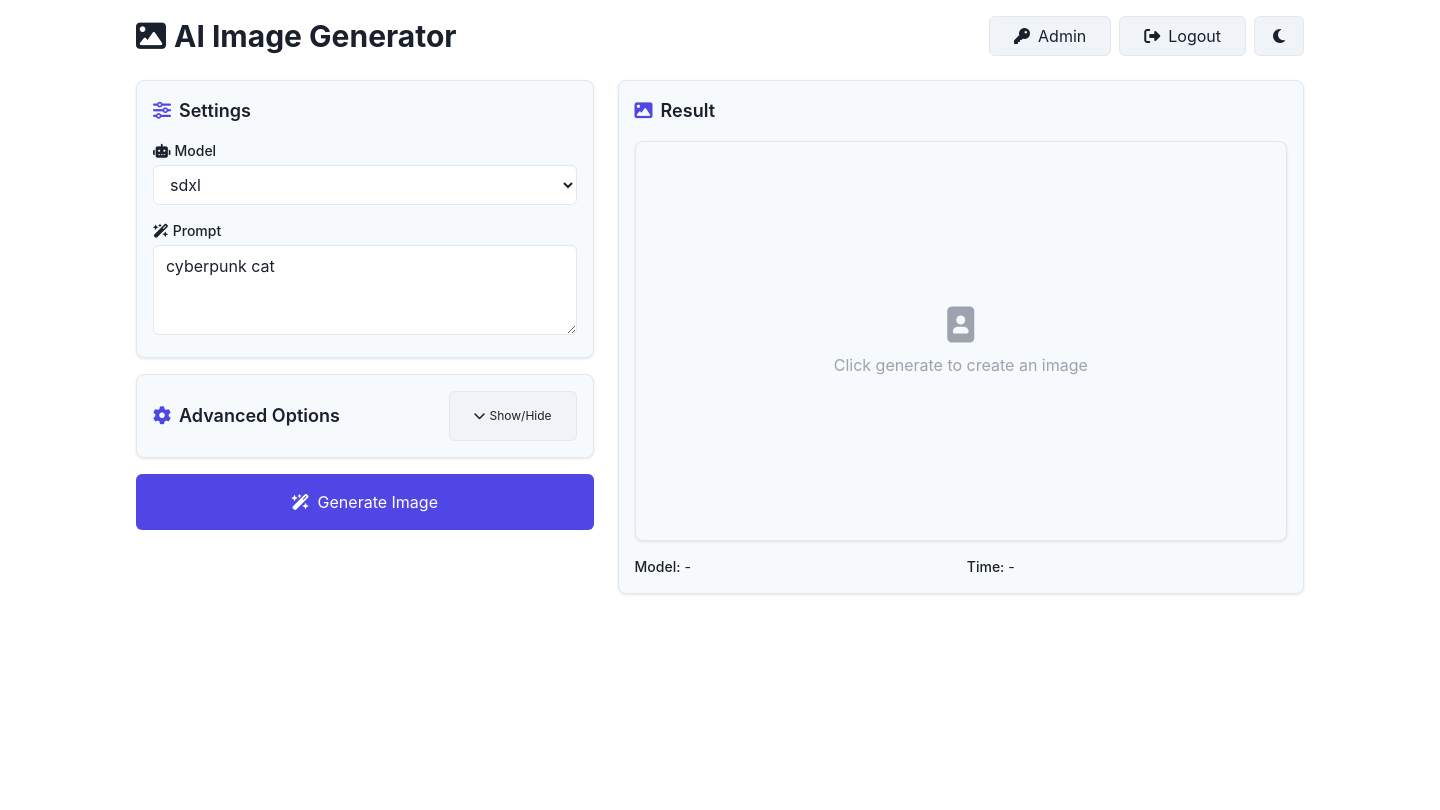
Test: the generator's DOM contract › keeps every element id the legacy page published
Check: the heading "AI Image Generator" is shown, box x1=136 y1=18 x2=456 y2=54
Check: the dropdown with id "model" is shown, box x1=153 y1=165 x2=577 y2=205
Click the button with id "toggleAdvanced": [513, 416] box x1=448 y1=391 x2=577 y2=441
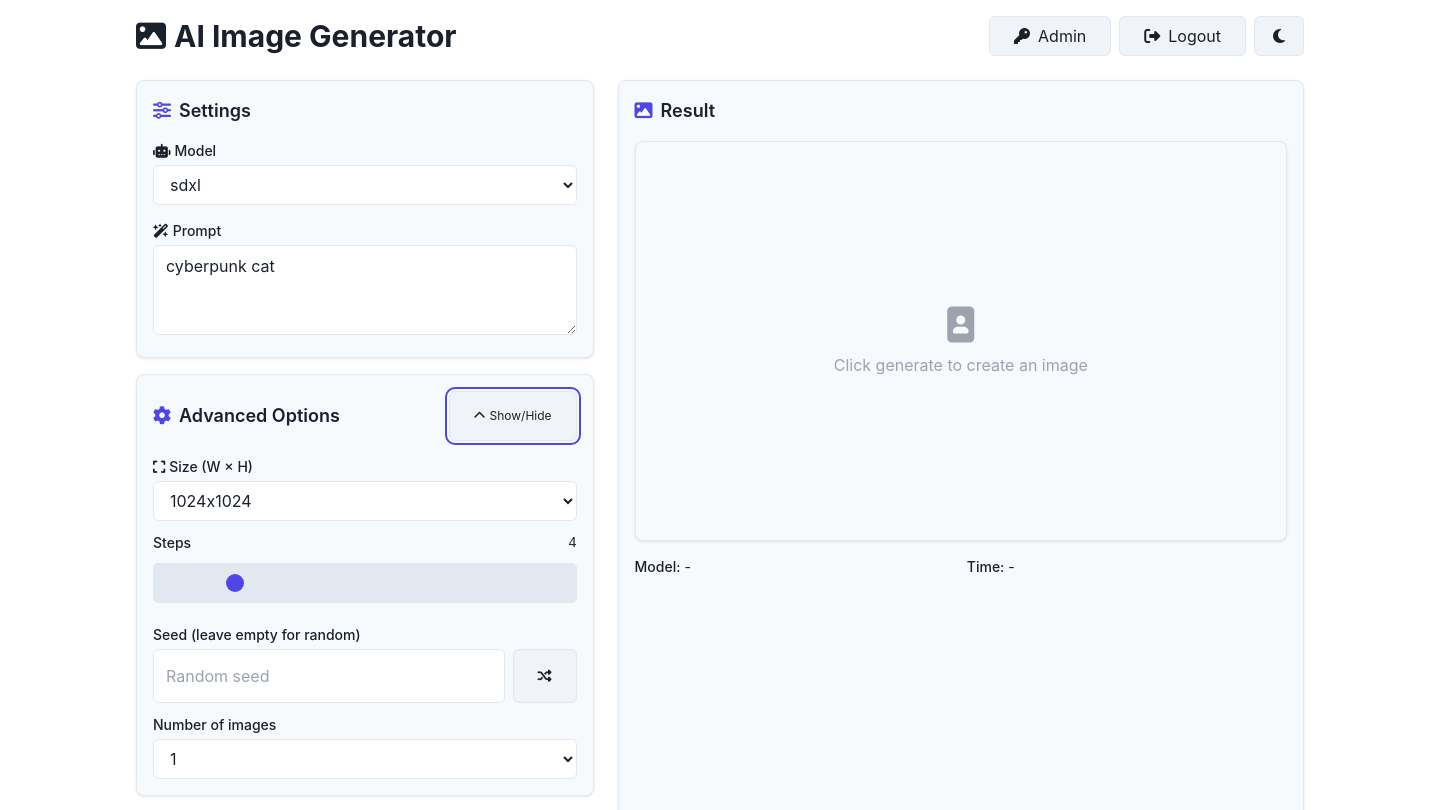
Check: the element with id "sizeWrap" is shown, box x1=153 y1=457 x2=577 y2=521
Check: the dropdown with id "size" is shown, box x1=153 y1=481 x2=577 y2=521
Check: the element with id "stepsWrap" is shown, box x1=153 y1=533 x2=577 y2=613
